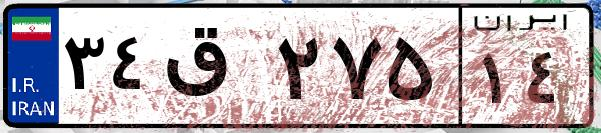1: (475, 38, 525, 113)
2: (270, 28, 330, 110)
3: (57, 26, 110, 100)
4: (525, 38, 570, 115), (110, 28, 158, 98)
5: (385, 28, 445, 110)
7: (330, 28, 385, 110)
ق: (158, 20, 270, 120)
